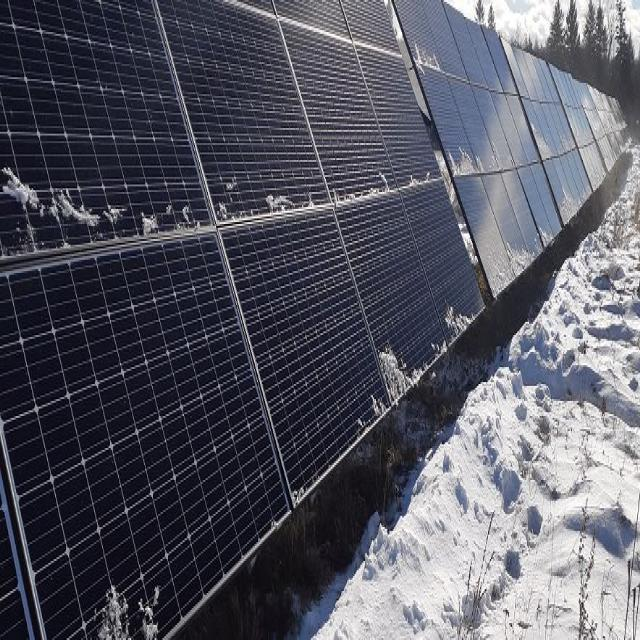snow covered: (1, 9, 610, 639)
